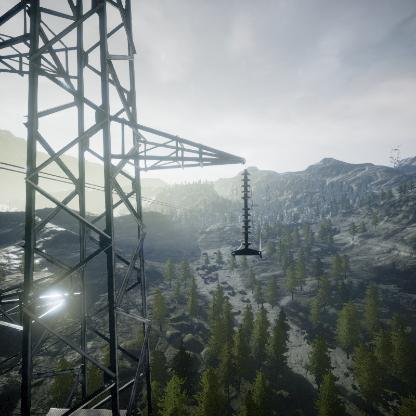insulator: (238, 169, 255, 249)
